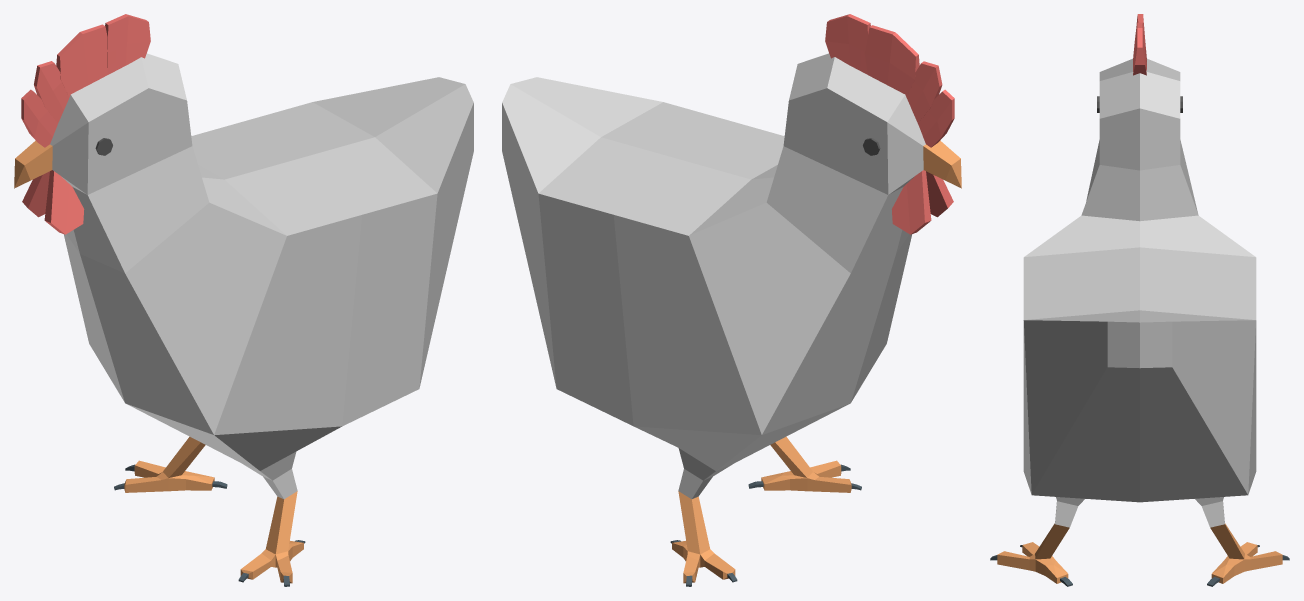
Rendered from pp_1YE8U35HXsI.glb.
3 renders of one model, left to right at view 1: azimuth 30°, elevation 25°; view 2: azimuth 150°, elevation 25°; view 3: azimuth 270°, elevation 25°, orthographic. The views are drawn at different scales.
Visible parts, largest first — view 1: Cube.035_Cube.034; view 2: Cube.035_Cube.034; view 3: Cube.035_Cube.034.
Boxes of the visible parts, <box> form: Cube.035_Cube.034: <box>14,14,473,586</box>; Cube.035_Cube.034: <box>502,14,961,586</box>; Cube.035_Cube.034: <box>990,14,1289,586</box>.
Size of the model in its own units: 0.3718 by 0.42 by 0.2298.
